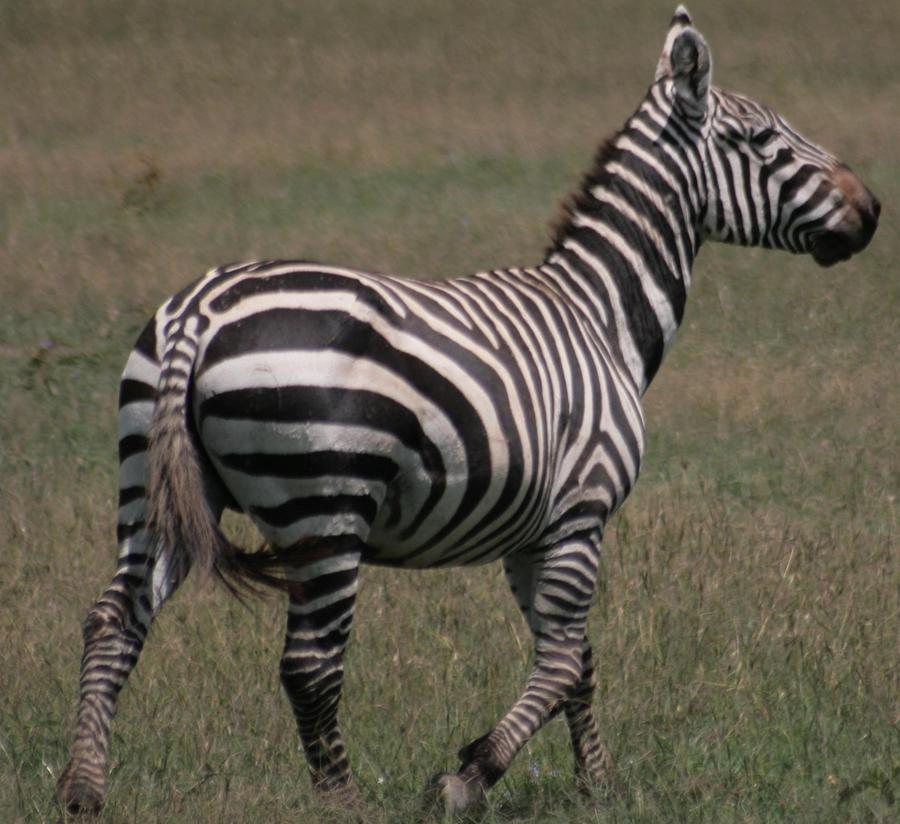zebra_plains: (227, 236, 639, 595)
